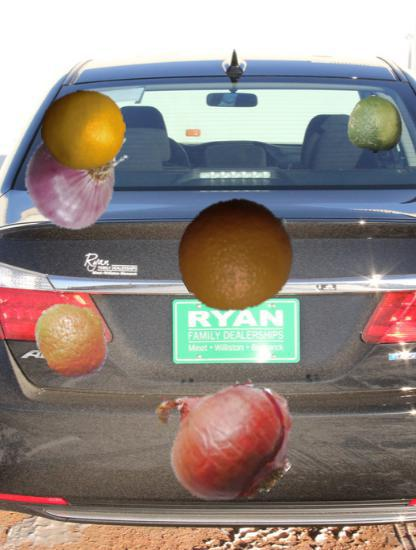Grapefruit: (41, 87, 126, 172)
Limes: (346, 95, 404, 153)
Mandarine: (31, 299, 114, 382)
Onion: (153, 362, 297, 506), (19, 109, 141, 231)
Orange: (176, 194, 296, 314)
